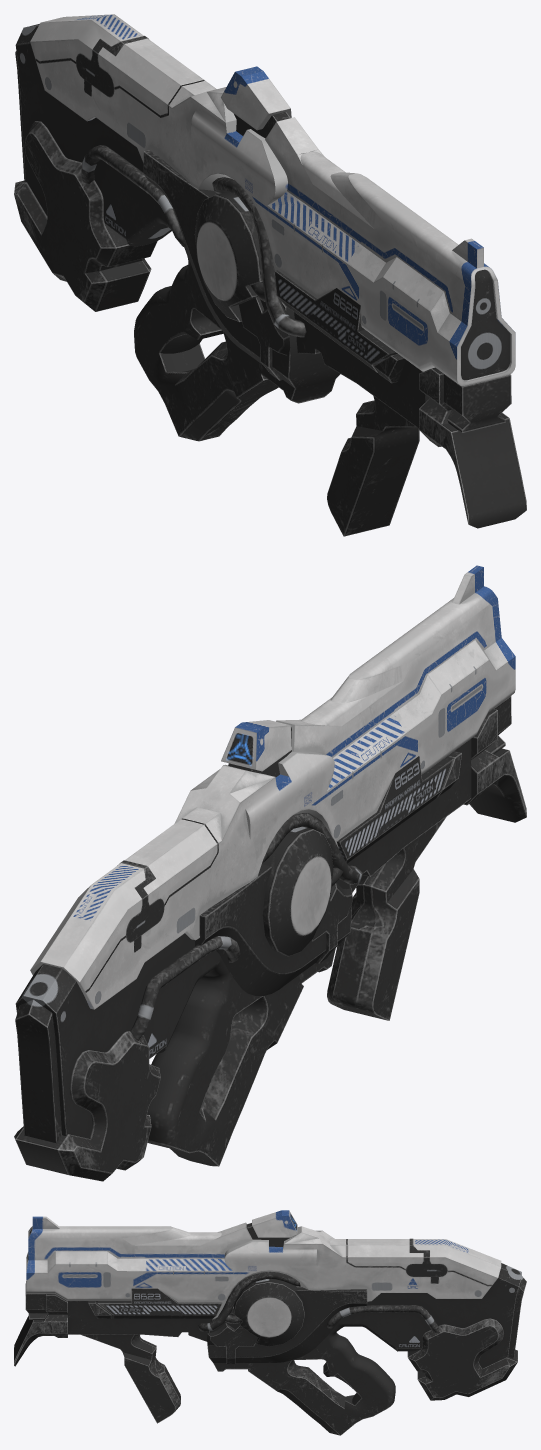
File: plasma_rifle_doom_2016.glb
3 views of the same model, one above another, from view 1: azimuth 30°, elevation 25°; view 2: azimuth 150°, elevation 25°; view 3: azimuth 270°, elevation 25° (orthographic). The views are drawn at different scales.
Parts seen in each view (by area): view 1: Cube.023; view 2: Cube.023; view 3: Cube.023.
Boxes of the visible parts, x1=… form: Cube.023: x1=14, y1=14, x2=526, y2=536; Cube.023: x1=14, y1=565, x2=526, y2=1181; Cube.023: x1=14, y1=1210, x2=526, y2=1435.
Size of the model in its own units: 0.5744 by 2.32 by 4.92.
Materials: 2 (2 with a texture image).
